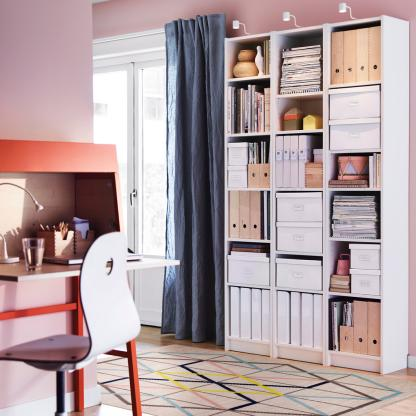Chair: (2, 230, 141, 416)
